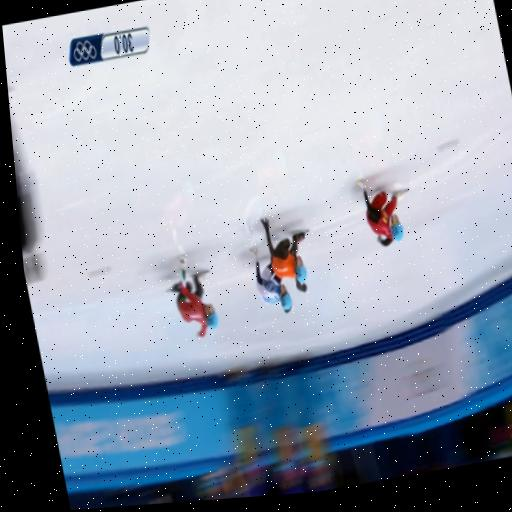Skater: (167, 254, 217, 337), (355, 178, 405, 244), (260, 218, 305, 285), (250, 248, 292, 312)
